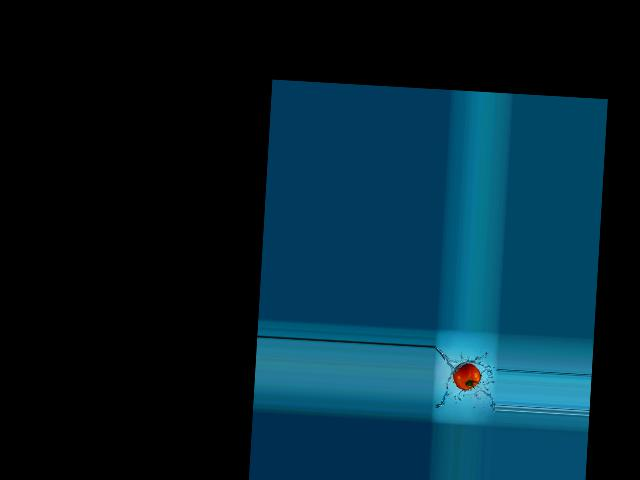tomato: (452, 362, 481, 390)
